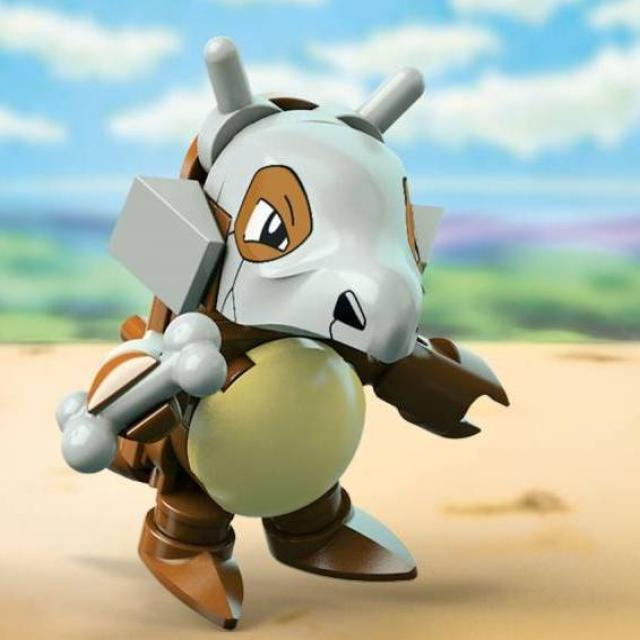Cubone: (112, 39, 444, 586)
